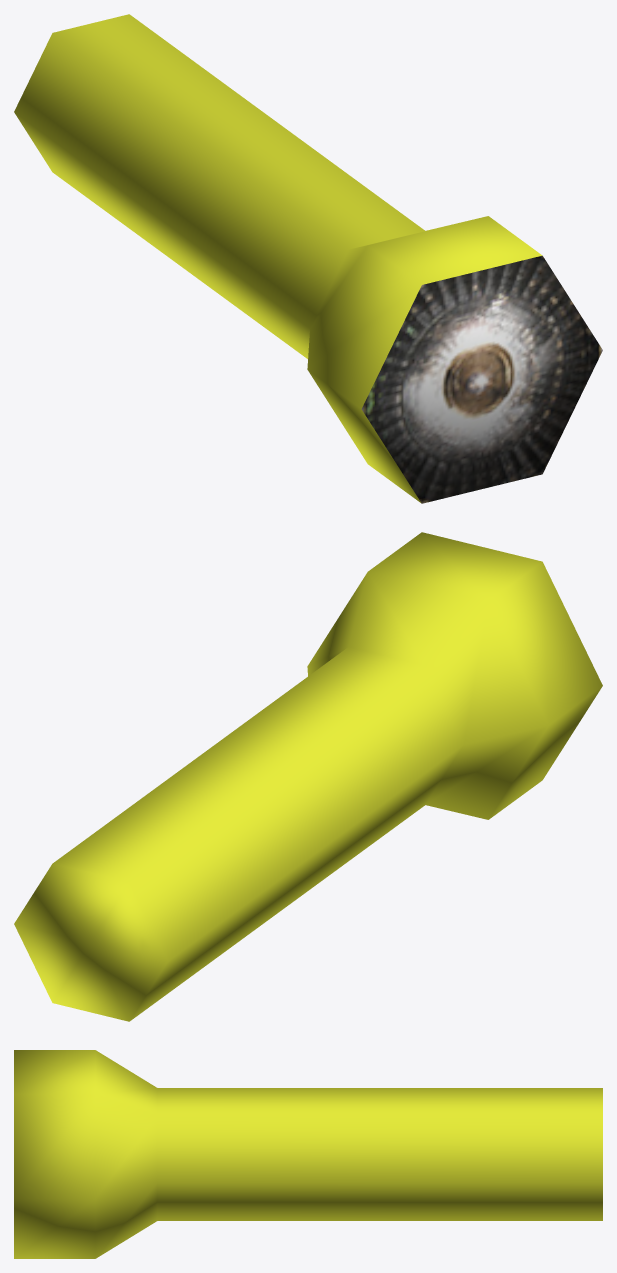
File: SurroundingEnvironment_Torch.fbx
3 views of the same model, one above another, from view 1: azimuth 30°, elevation 25°; view 2: azimuth 150°, elevation 25°; view 3: azimuth 270°, elevation 25° (orthographic). The views are drawn at different scales.
Visible parts, largest first — view 1: Torchlight; view 2: Torchlight; view 3: Torchlight.
Part boxes in pixels (<box>): Torchlight: <box>14,14,602,503</box>; Torchlight: <box>14,532,602,1021</box>; Torchlight: <box>14,1050,602,1258</box>.
Size of the model in its own units: 10.32 by 8.94 by 28.99.
